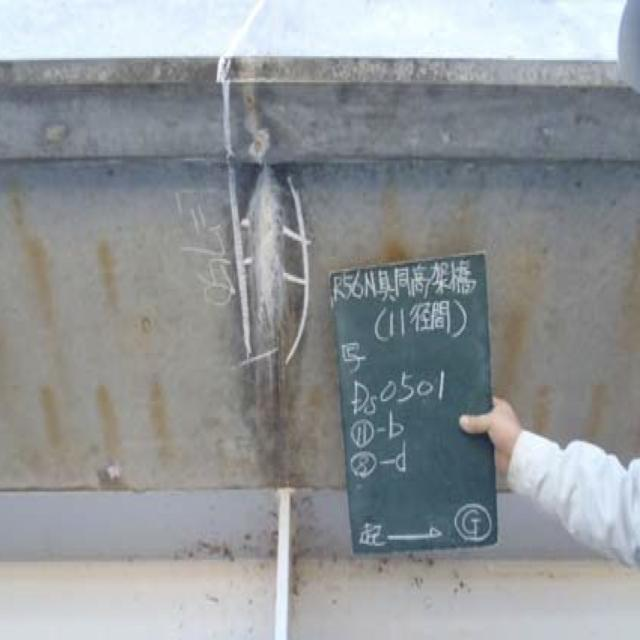freelime: (218, 43, 312, 336)
